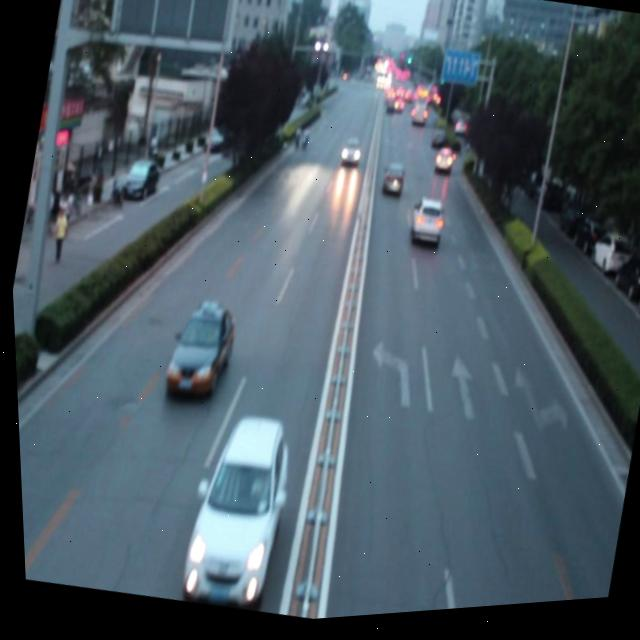car: (167, 407, 297, 617), (154, 298, 237, 407), (401, 198, 446, 257), (376, 162, 405, 204)
